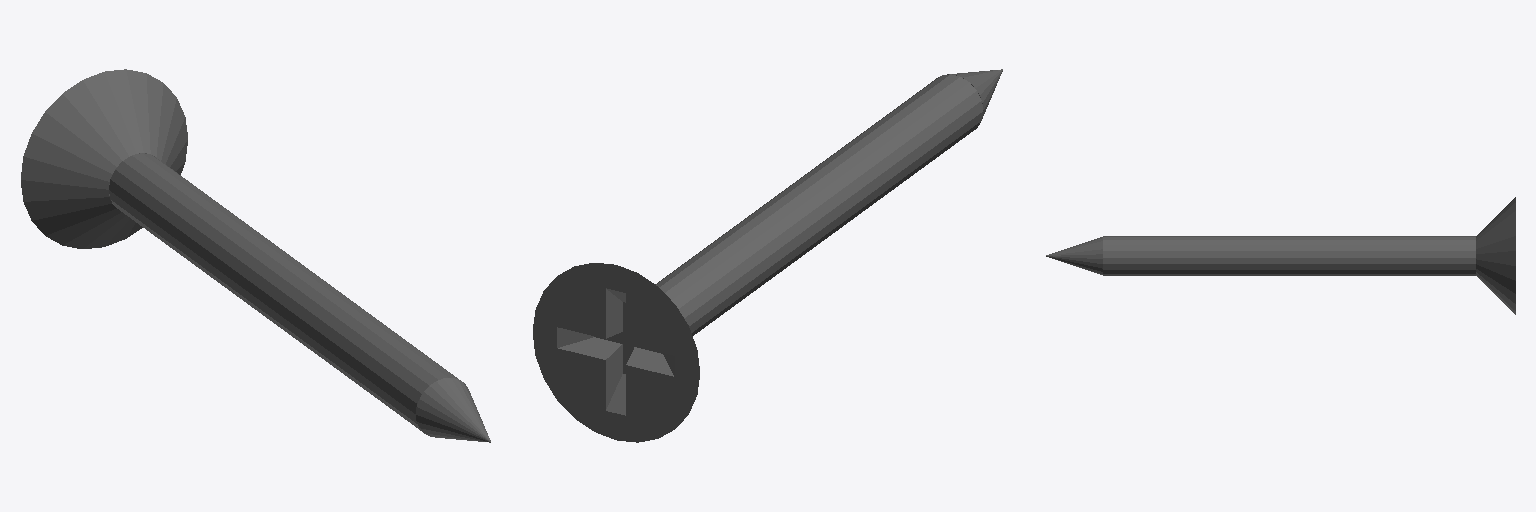
URDF robot description (single_screw2):
<robot name="single_screw2">
  <link name="single_screw2">

    <!-- rosrun gazebo_ros spawn_model -file $(rospack find ur5_single_arm_tufts)/urdf/objects/table.urdf -urdf -x 0.5 -y -0 -z 0.75 -model table -->
    
    <inertial>
      <origin xyz="0.23 0 0.755" rpy="0 0 0" />
      <mass value="1"/>
      <inertia
        ixx="0.07" ixy="0.0" ixz="0.0"
        iyy="0.40" iyz="0.0"
        izz="0.33"/>
    </inertial>

    <visual>
      <geometry>
        <mesh filename="package://ur5_single_arm_tufts/urdf/objects/screw2.dae"/>
      </geometry>
    </visual>

    <collision>
      <geometry>
        <mesh filename="package://ur5_single_arm_tufts/urdf/objects/screw2.dae"/>
      </geometry>
    </collision>

  </link>

  <gazebo reference="screw2">
    <material>Gazebo/Blue</material>
  </gazebo> 

  <gazebo>
    <static>true</static>
  </gazebo>

</robot>

--- Facts derived from the render (not from the file) ---
3 views of the same robot in one strip: view 1: azimuth 30°, elevation 25°; view 2: azimuth 150°, elevation 25°; view 3: azimuth 270°, elevation 25° (orthographic).
Robot: single_screw2 — 1 links, 0 joints (none); root link single_screw2; default pose: every joint at zero.
Links seen in each view (by area): view 1: single_screw2; view 2: single_screw2; view 3: single_screw2.
Link boxes in pixels (x1=…): single_screw2: x1=21, y1=69, x2=490, y2=442; single_screw2: x1=533, y1=69, x2=1002, y2=442; single_screw2: x1=1046, y1=197, x2=1515, y2=314.
Size in the robot's own frame: 1.52 by 6.09 by 1.52 metres.
Meshes: 1 distinct files referenced, 1 mesh visuals loaded (1 Collada DAE).
